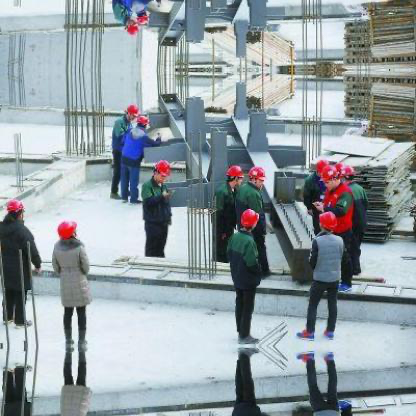helmet: (55, 215, 82, 241), (322, 162, 343, 190), (316, 209, 340, 231), (6, 195, 26, 221), (153, 157, 171, 184), (239, 208, 259, 232), (224, 164, 244, 187), (248, 164, 266, 188), (338, 164, 356, 185), (314, 157, 330, 179), (132, 114, 150, 129), (132, 10, 150, 25), (121, 104, 138, 119), (121, 20, 138, 35)
